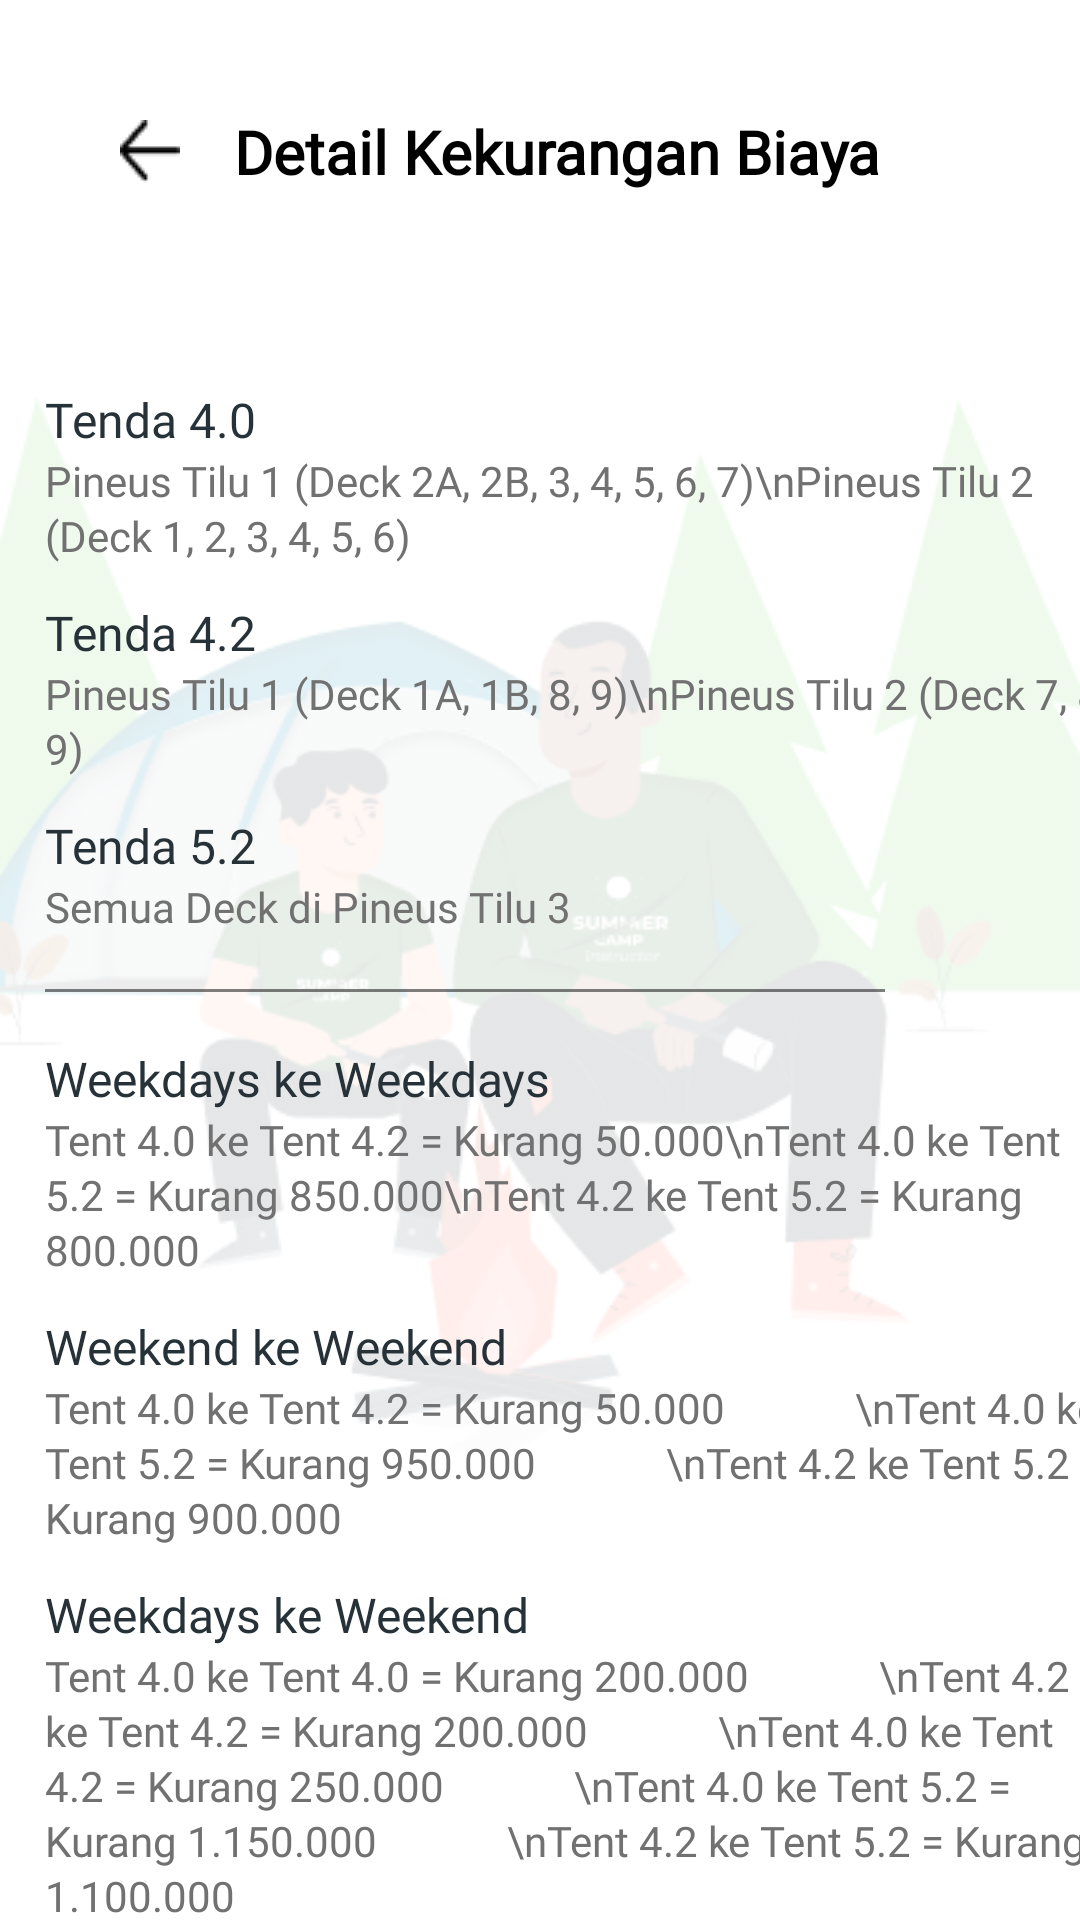

Icons on this 1080*1920 Android screen, each with its box as (x1, y1, x2, y2):
back: (120, 120, 180, 181)
